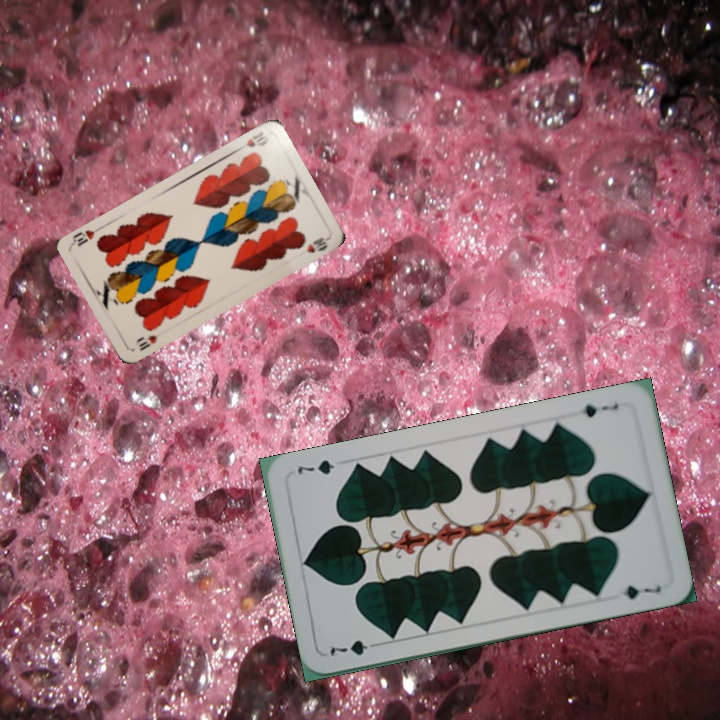G7: (326, 636, 383, 659), (577, 399, 621, 421)
H10: (233, 127, 271, 154), (135, 331, 159, 354)
